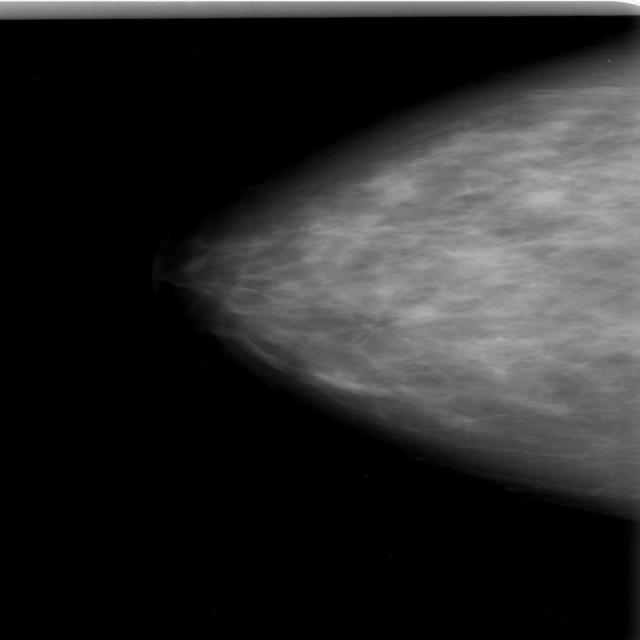normal: (159, 34, 640, 512)
